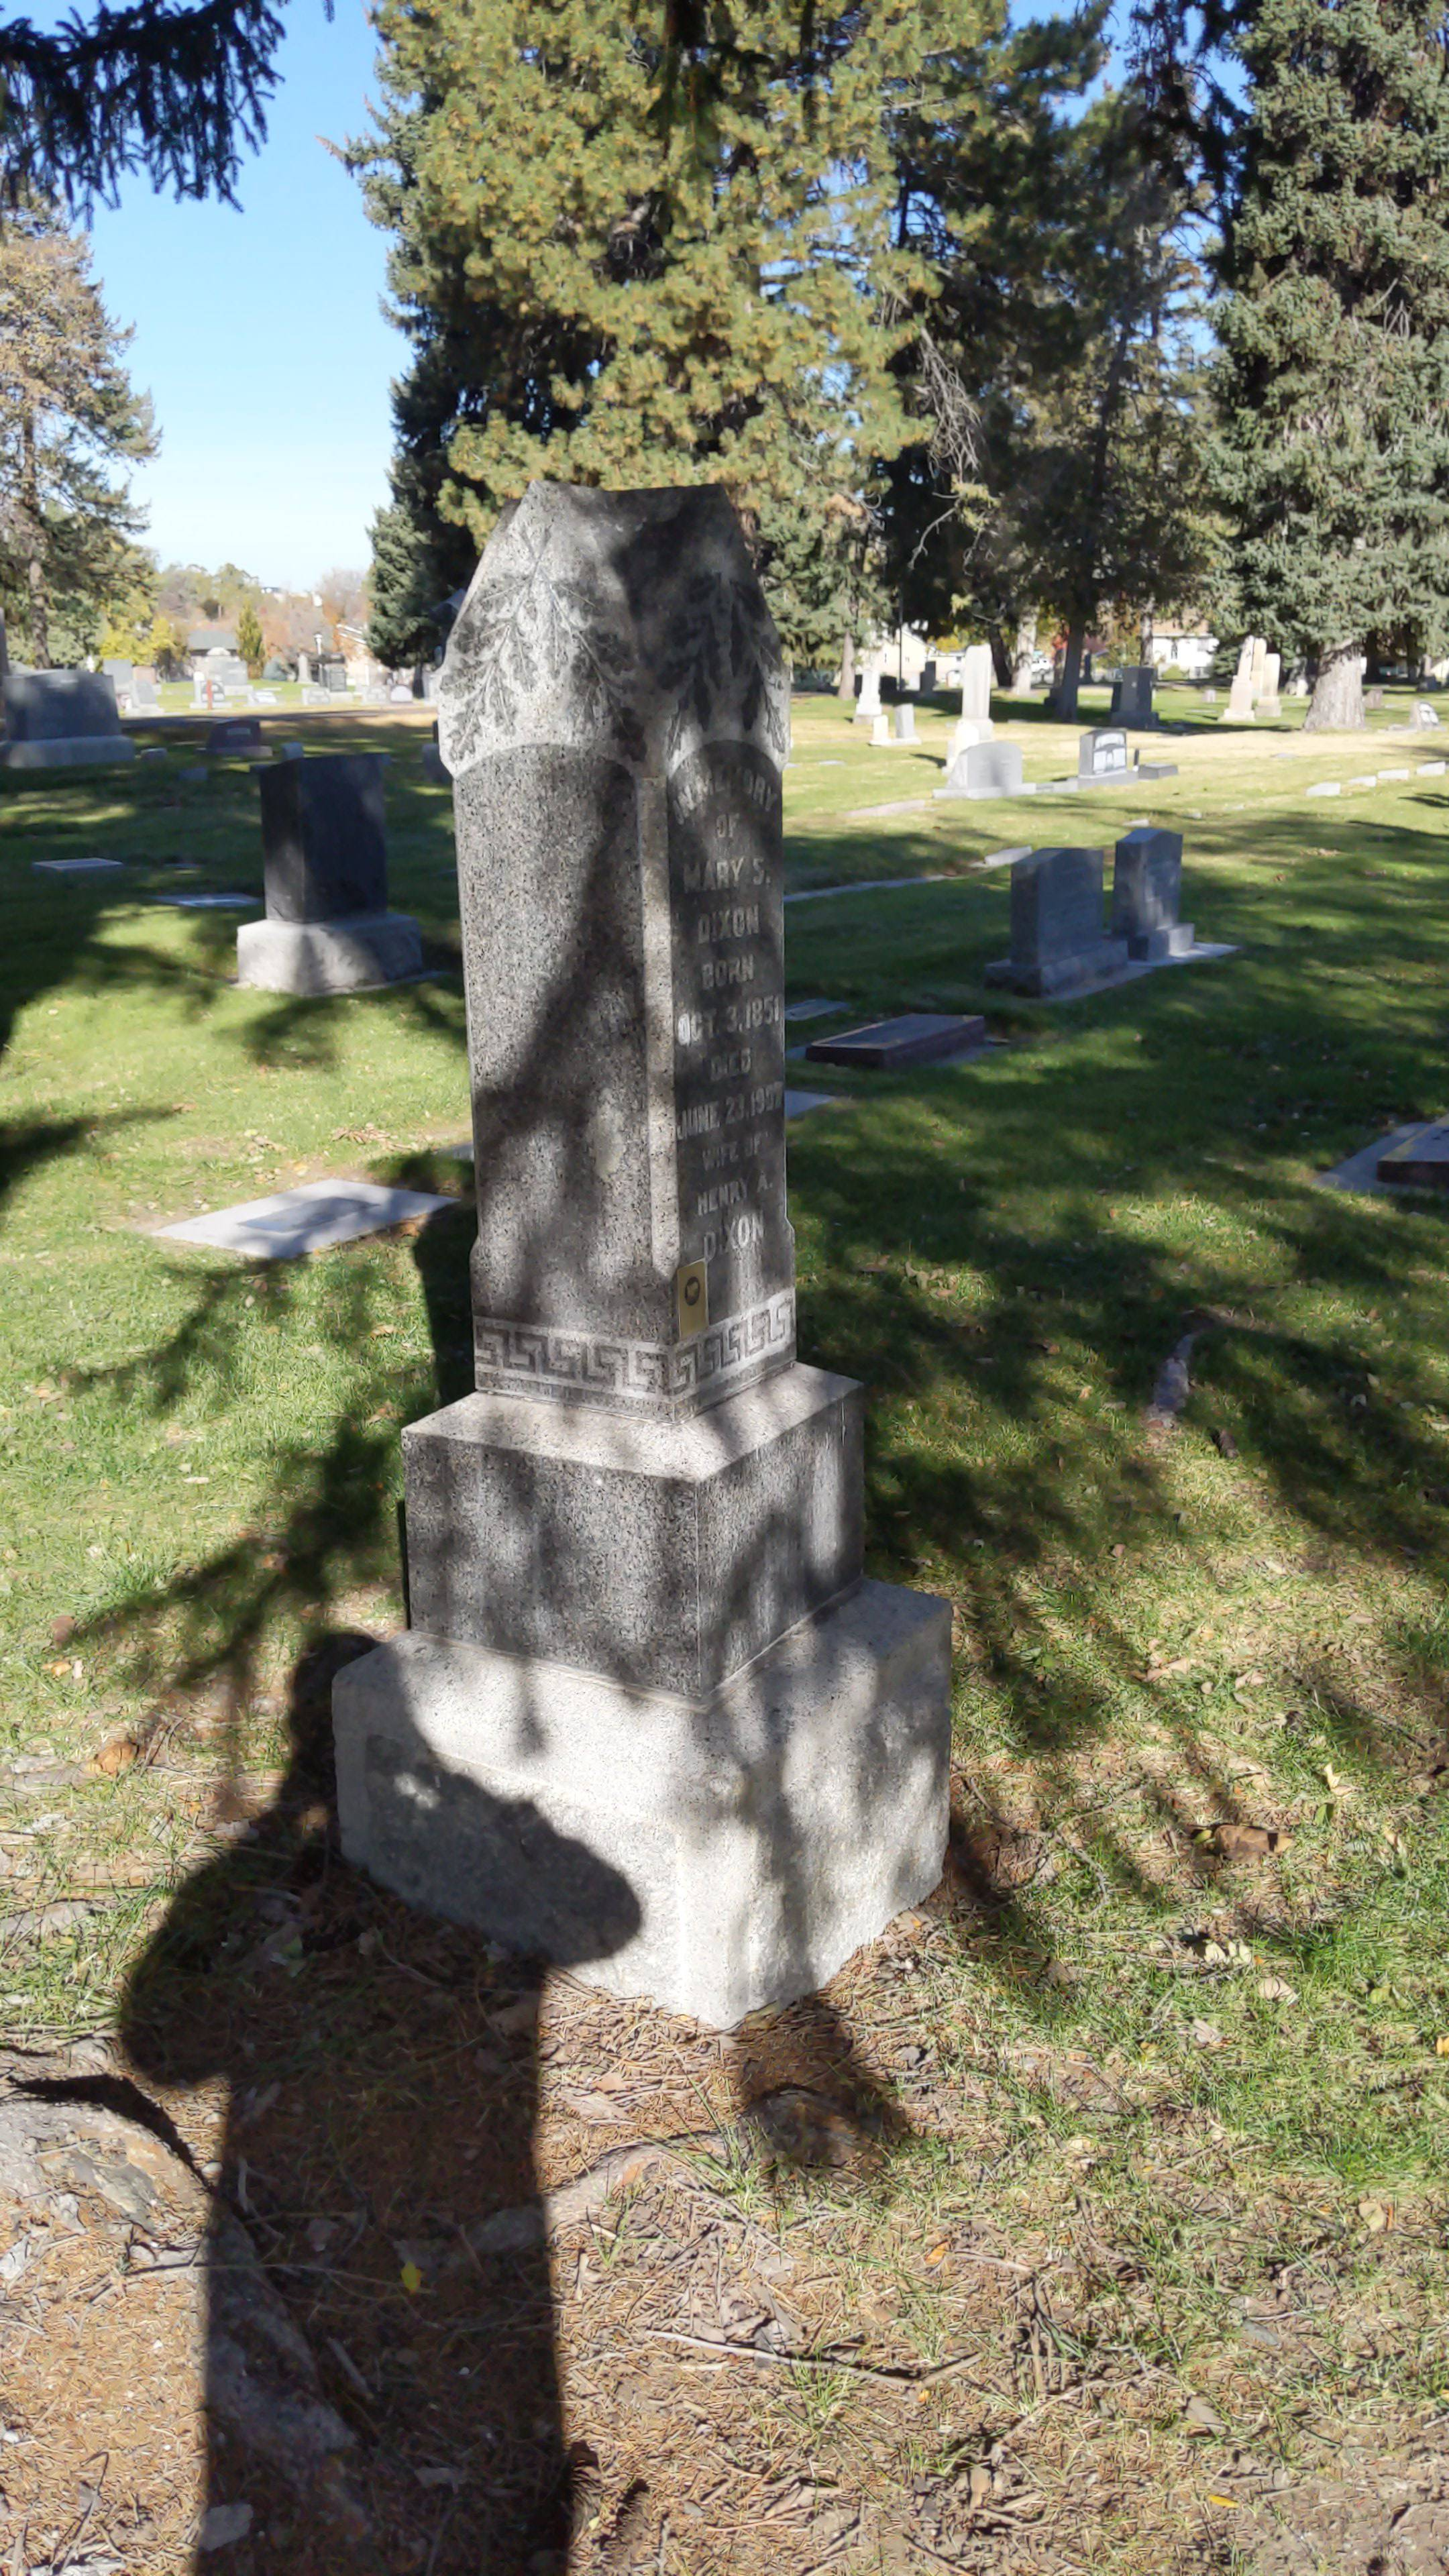obelisk: (389, 487, 872, 1700)
